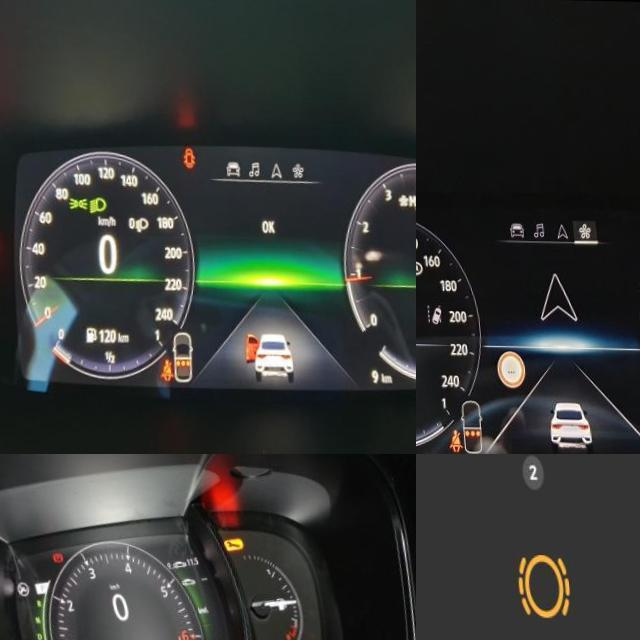Doors: (176, 143, 192, 167)
Low beam: (81, 193, 102, 216)
SideLamp: (60, 193, 82, 210)
